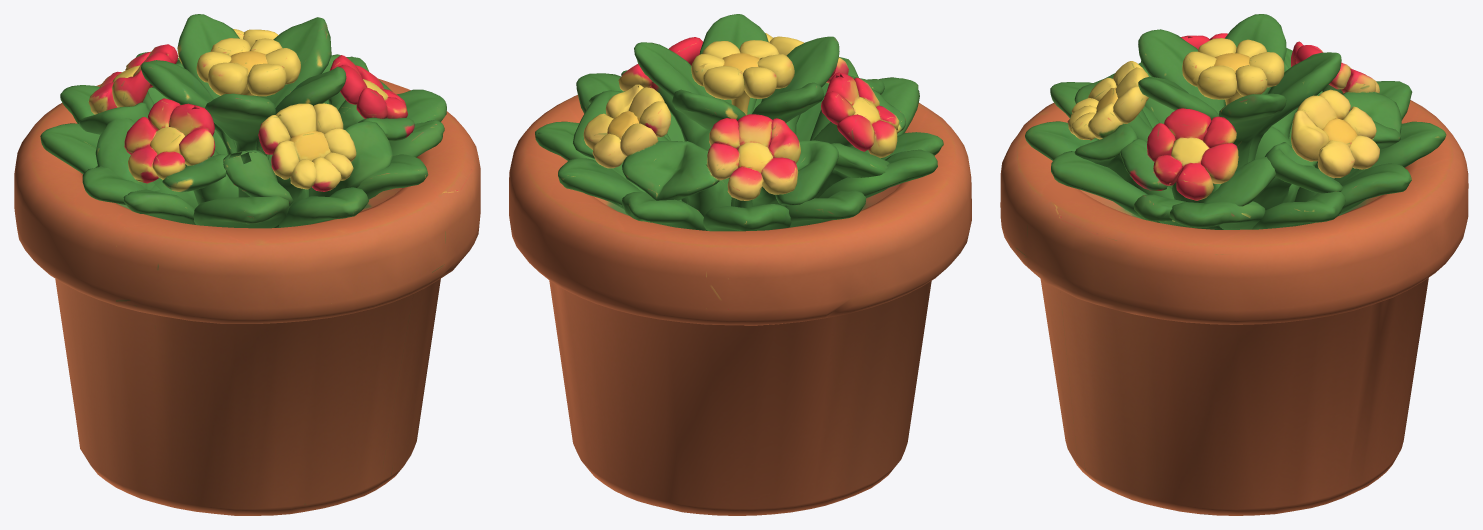
The model's file is Meshy_AI_Clay_Garden_Bloom_20261029_texture.fbx.
3 renders of one model, left to right at view 1: azimuth 30°, elevation 25°; view 2: azimuth 150°, elevation 25°; view 3: azimuth 270°, elevation 25°, orthographic.
Parts seen in each view (by area): view 1: Mesh_0; view 2: Mesh_0; view 3: Mesh_0.
Part boxes in pixels (<box>): Mesh_0: <box>14,14,480,515</box>; Mesh_0: <box>509,14,971,515</box>; Mesh_0: <box>1000,14,1468,515</box>.
Bounding box in the file's own units: 95.65 × 88.96 × 95.61.
Materials: 1 (1 with a texture image).
